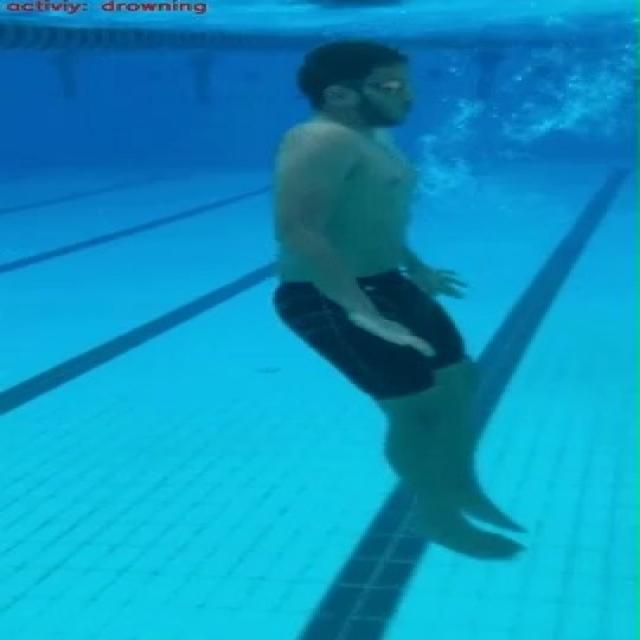Drowning: (260, 26, 536, 564)
